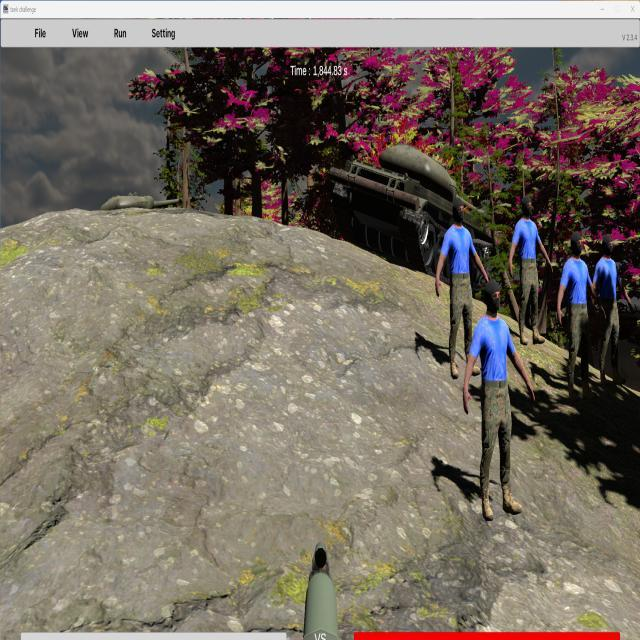Human: (463, 277, 536, 524), (436, 194, 490, 379), (558, 232, 597, 402), (509, 195, 552, 345), (592, 233, 633, 389)
Tank: (327, 143, 488, 292)
